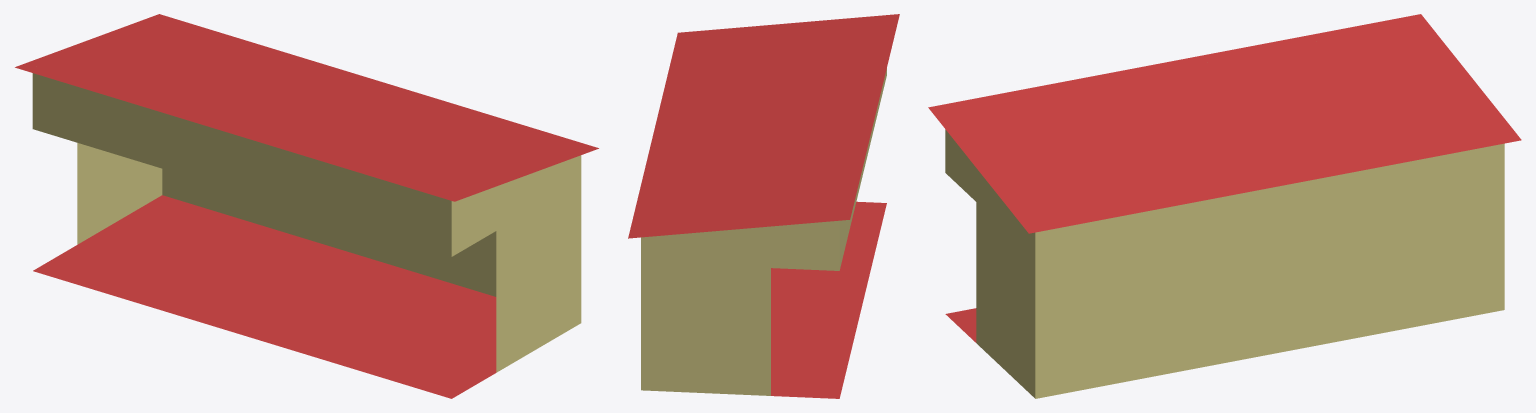
3 views of the same model, side by side, from view 1: azimuth 30°, elevation 25°; view 2: azimuth 150°, elevation 25°; view 3: azimuth 270°, elevation 25° (orthographic). The views are drawn at different scales.
Bounding box in the file's own units: 25.73 × 34.25 × 12.97.
